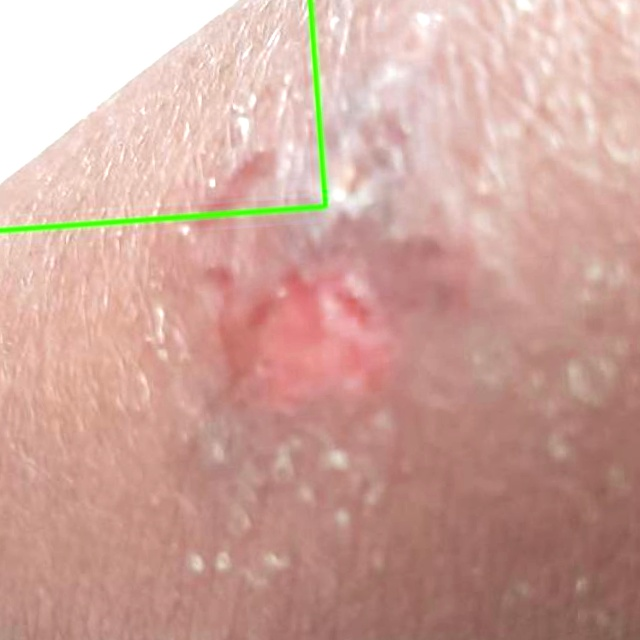Eczema: (0, 0, 325, 230)
